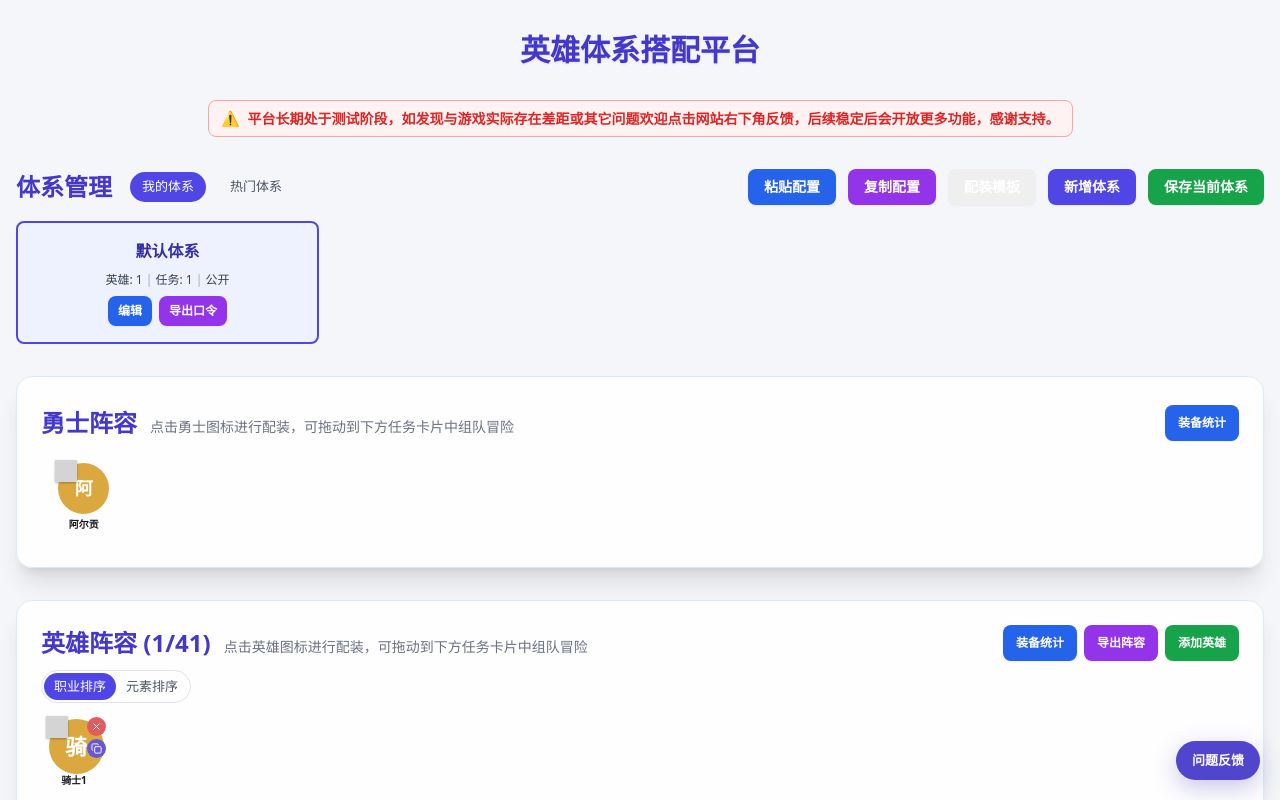
Test: explains why an online six-character system code cannot resolve offline
Expected: the text "默认体系" is shown, x1=136 y1=240 x2=200 y2=262
Click the button "新增体系" at coordinates (1092, 186), box x1=1048 y1=168 x2=1136 y2=204
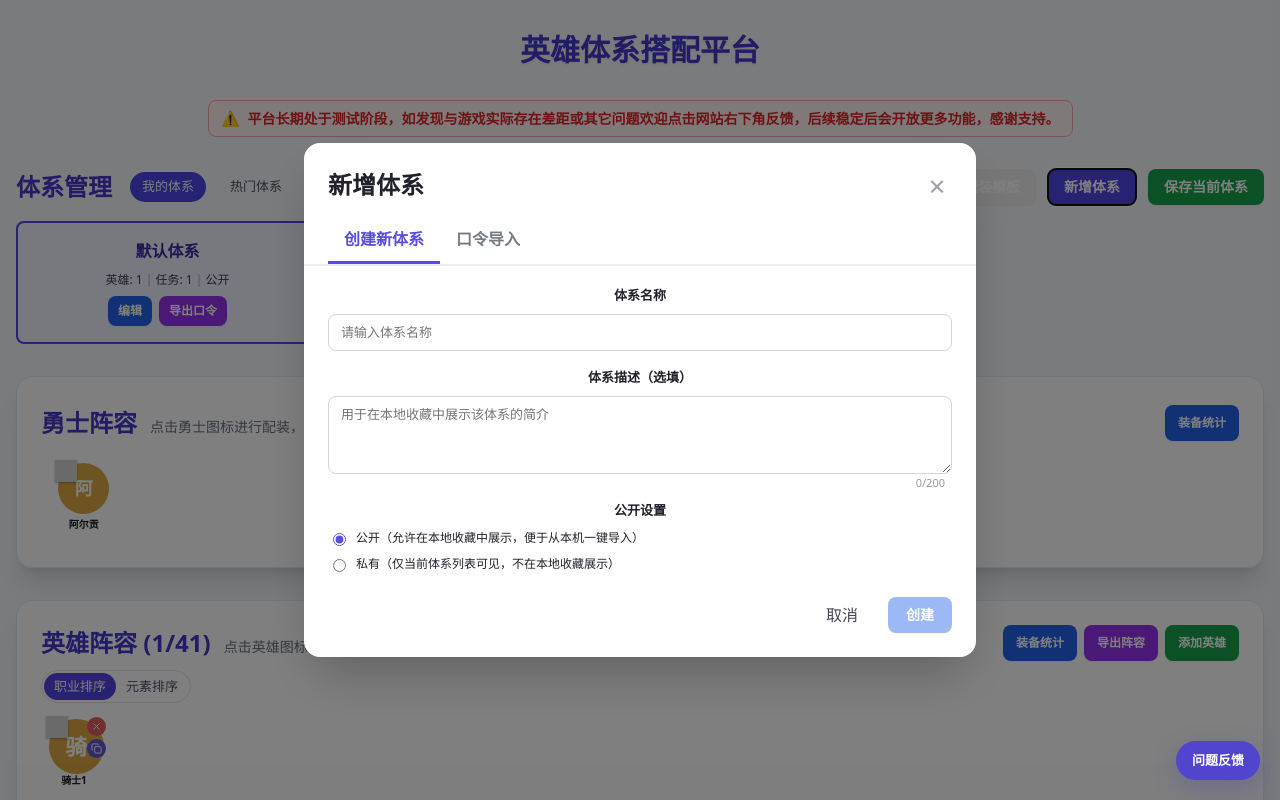
Click the button "口令导入" at coordinates (488, 240), box x1=440 y1=215 x2=536 y2=264
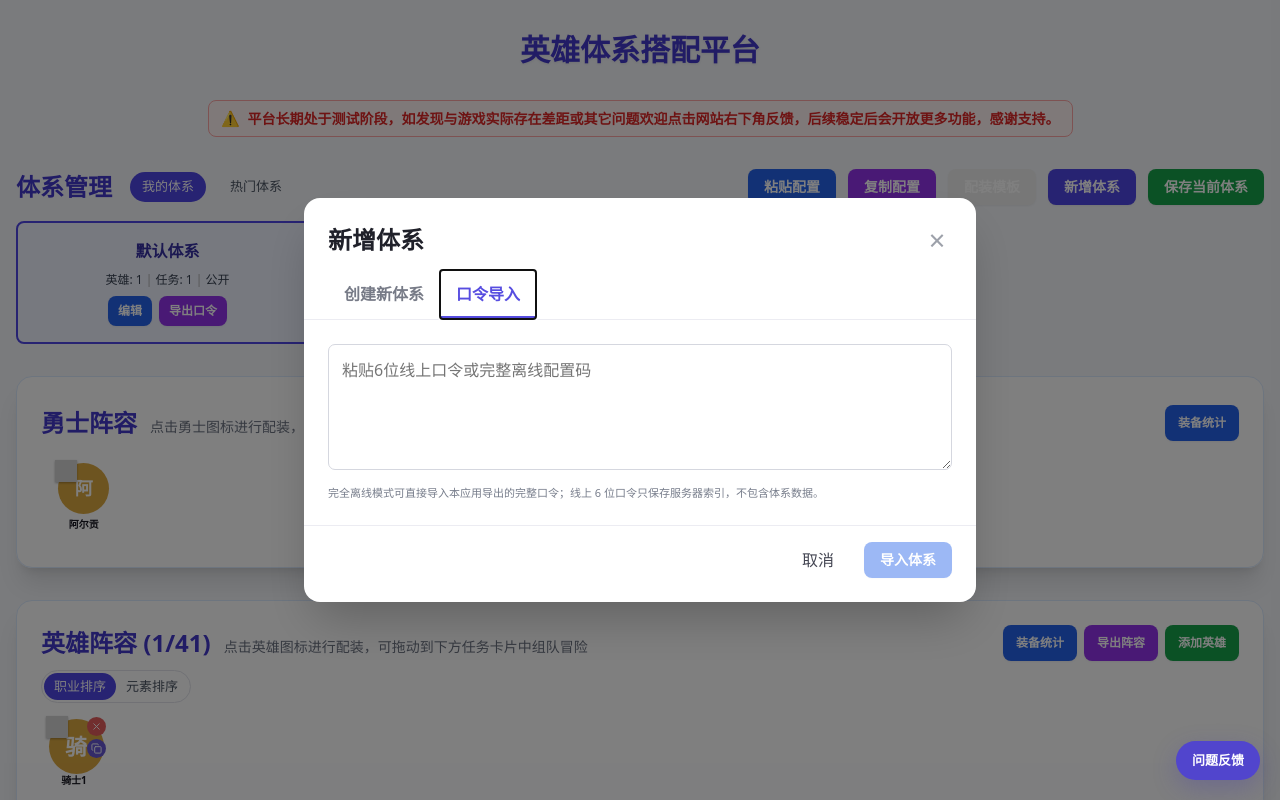
Type "9UP4N1" into the text box named "粘贴体系配置码" at coordinates (640, 407), box x1=328 y1=344 x2=952 y2=470
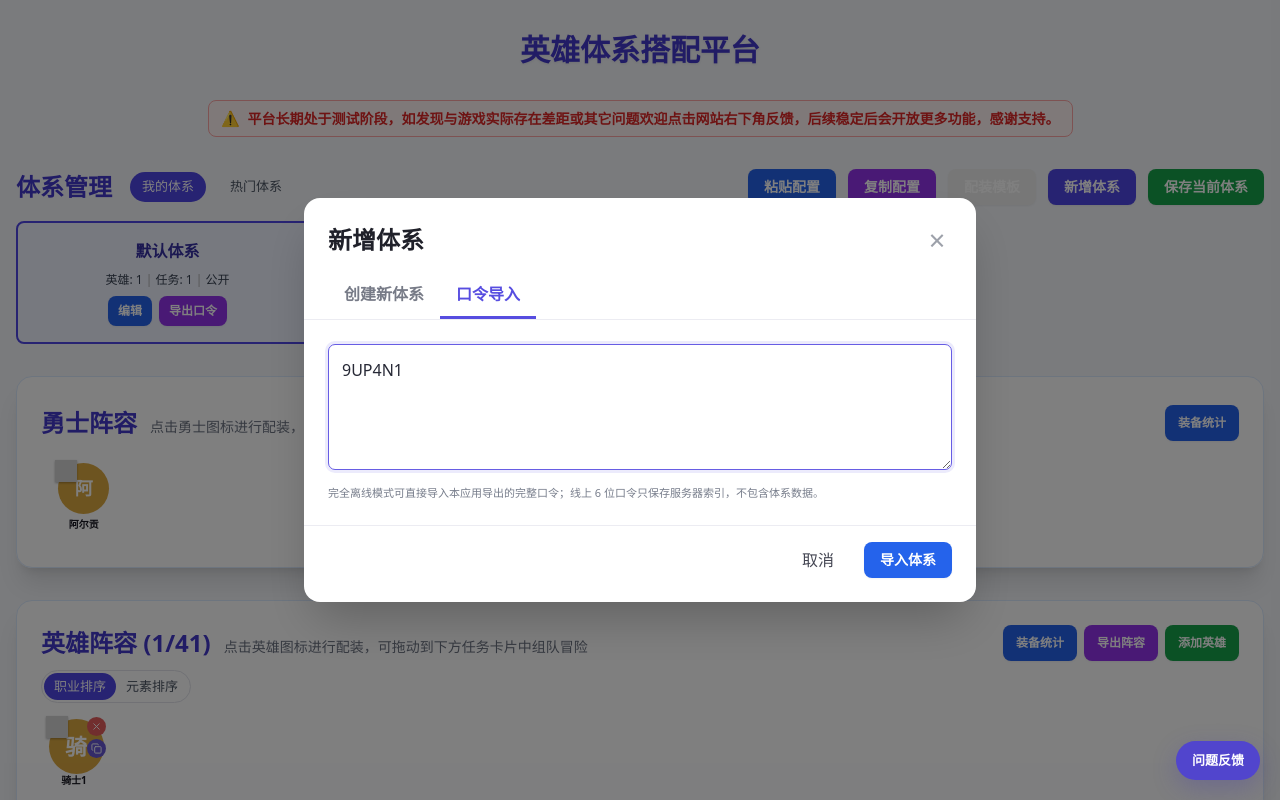
Click the button "导入体系" at coordinates (908, 560), box x1=864 y1=542 x2=952 y2=578
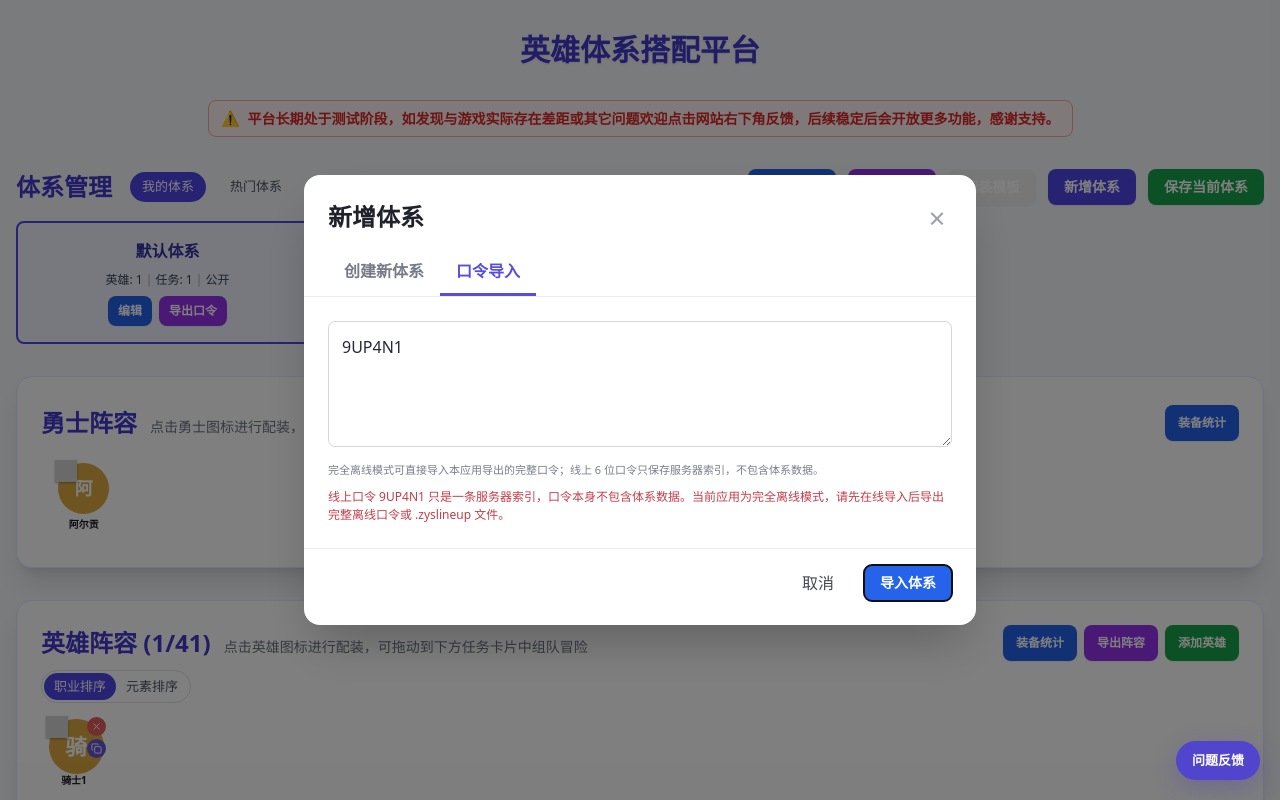
Now the message shows "只是一条服务器索引", box x1=328 y1=488 x2=944 y2=522
Now the message shows "完整离线口令", box x1=328 y1=488 x2=944 y2=522
